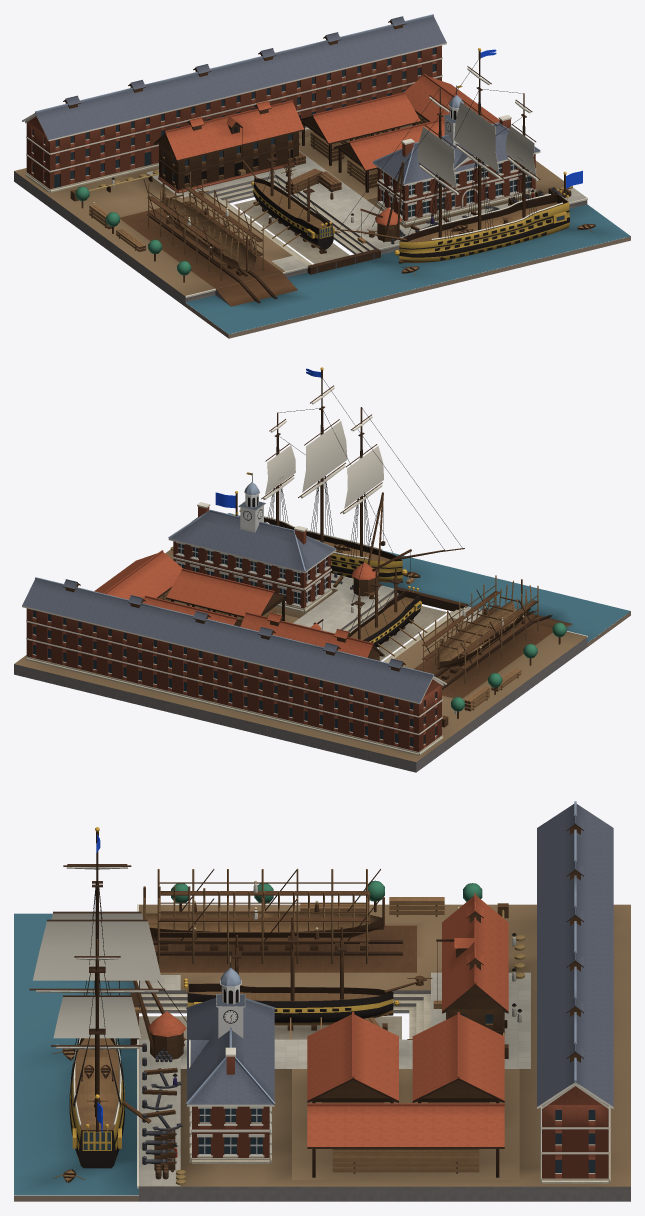
Rendered from lm_kraliyettersane.glb.
3 renders of one model, top to bottom at view 1: azimuth 30°, elevation 25°; view 2: azimuth 150°, elevation 25°; view 3: azimuth 270°, elevation 25°, orthographic. The views are drawn at different scales.
Visible parts, largest first — view 1: lm_kraliyettersane; view 2: lm_kraliyettersane; view 3: lm_kraliyettersane.
Part boxes in pixels (x1,y1,x2,y2): lm_kraliyettersane: [14, 14, 630, 338]; lm_kraliyettersane: [14, 367, 630, 772]; lm_kraliyettersane: [14, 801, 630, 1201].
Size of the model in its own units: 2.4 by 1.18 by 2.22.
1 material, 1 textured.
